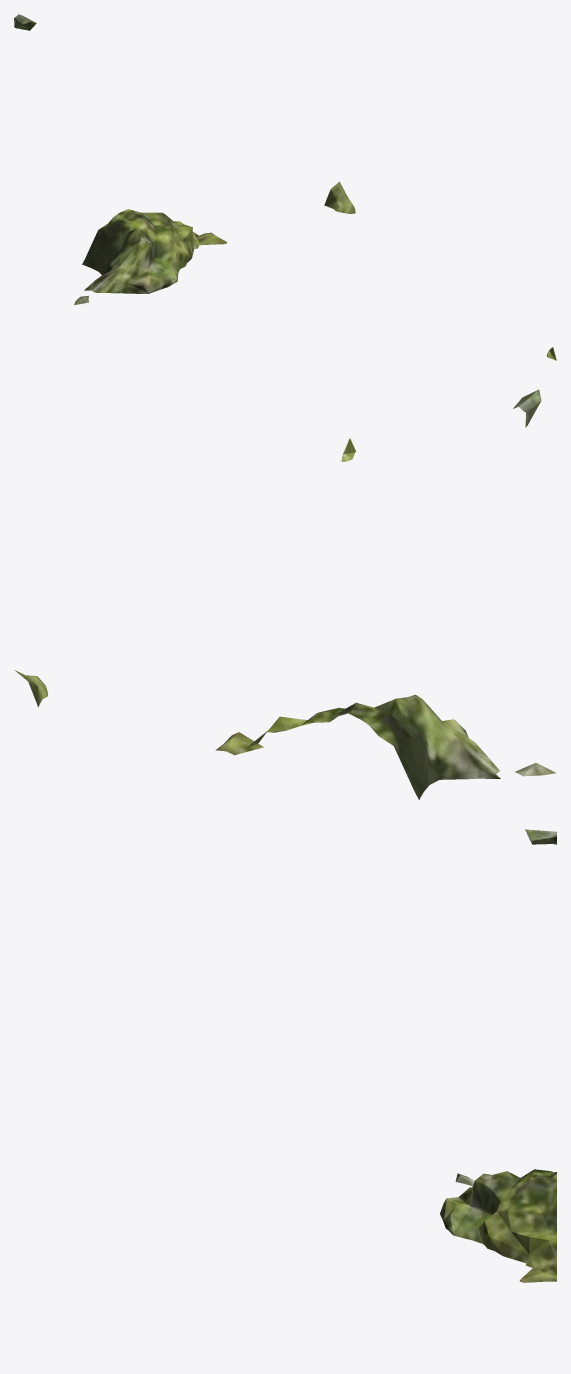
The picture shows the model from 3 angles, top to bottom: view 1: azimuth 30°, elevation 25°; view 2: azimuth 150°, elevation 25°; view 3: azimuth 270°, elevation 25°; orthographic projection. The views are drawn at different scales.
Size of the model in its own units: 2.16 by 1.69 by 2.49.
1 material, 1 textured.
